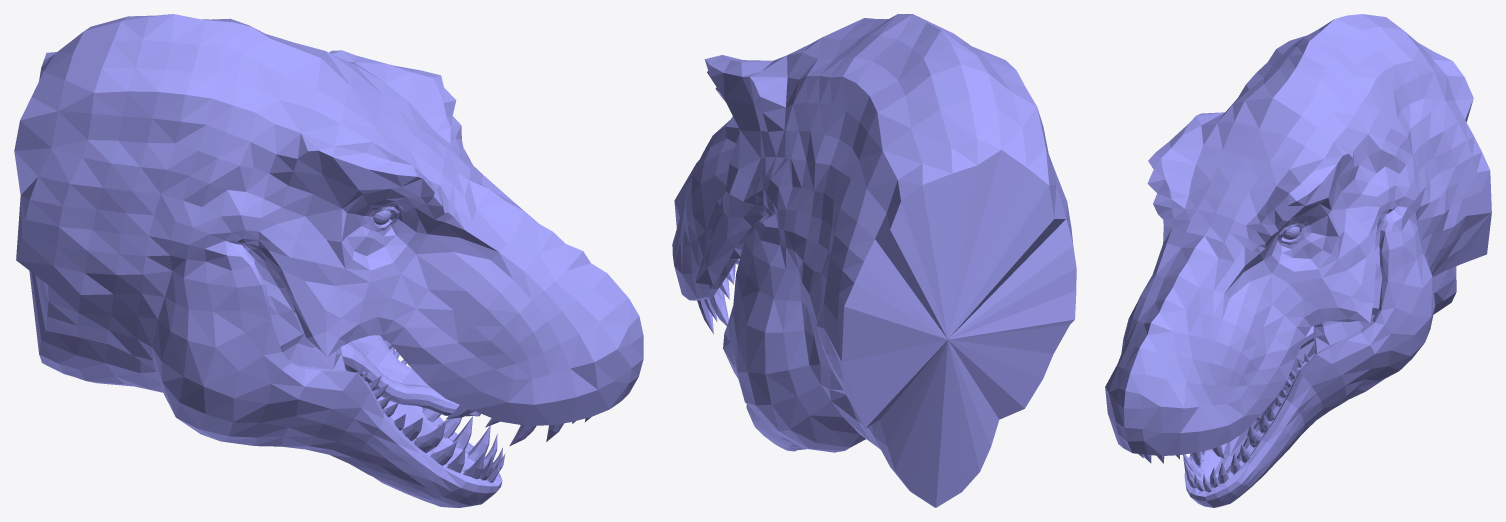
Rendered from dinoHead.glb.
3 renders of one model, left to right at view 1: azimuth 30°, elevation 25°; view 2: azimuth 150°, elevation 25°; view 3: azimuth 270°, elevation 25°, orthographic. The views are drawn at different scales.
Visible parts, largest first — view 1: Object_2; view 2: Object_2; view 3: Object_2.
Boxes of the visible parts, box(x1,y1,x2,y2) form: Object_2: box(14, 14, 643, 507); Object_2: box(672, 14, 1076, 507); Object_2: box(1105, 14, 1491, 507).
Bounding box in the file's own units: 1.37 × 1.32 × 1.15.
